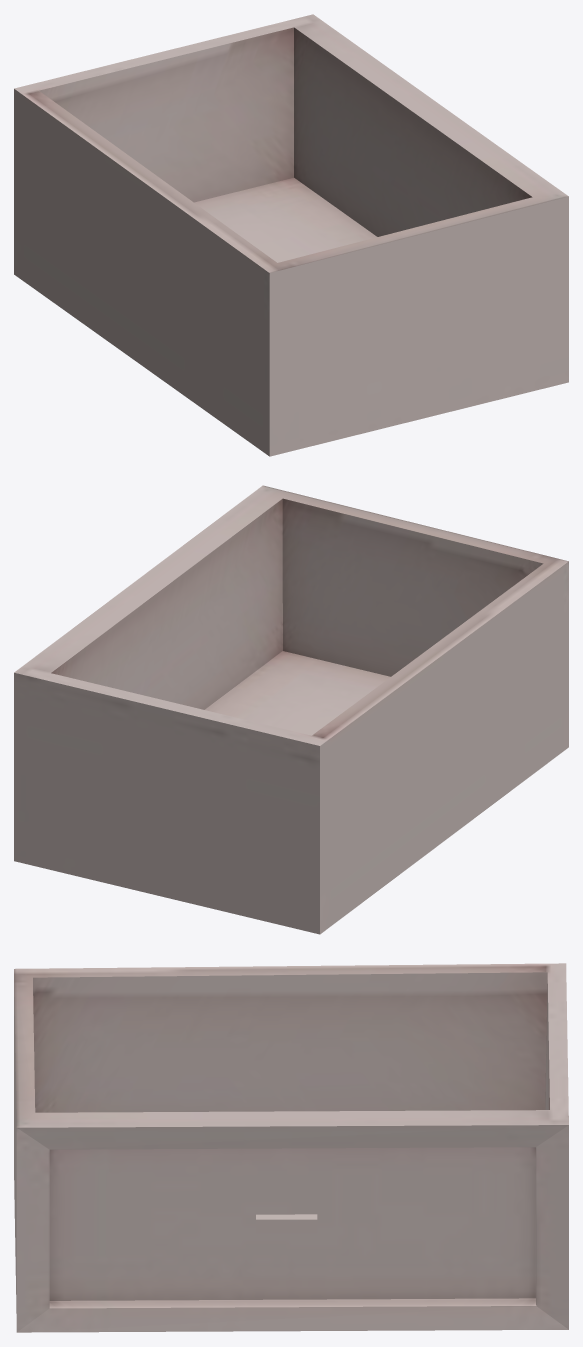
The model's file is drawer4.glb.
3 renders of one model, top to bottom at view 1: azimuth 30°, elevation 25°; view 2: azimuth 150°, elevation 25°; view 3: azimuth 270°, elevation 25°, orthographic. The views are drawn at different scales.
Visible parts, largest first — view 1: frl_apartment_lower_shelf_01_part_08.001; view 2: frl_apartment_lower_shelf_01_part_08.001; view 3: frl_apartment_lower_shelf_01_part_08.001.
Boxes of the visible parts, bbox=[...] form: frl_apartment_lower_shelf_01_part_08.001: bbox=[14, 14, 568, 456]; frl_apartment_lower_shelf_01_part_08.001: bbox=[14, 485, 568, 934]; frl_apartment_lower_shelf_01_part_08.001: bbox=[14, 963, 568, 1332].
Bounding box in the file's own units: 0.6209 × 0.3609 × 0.8862.
Materials: 1 (1 with a texture image).
